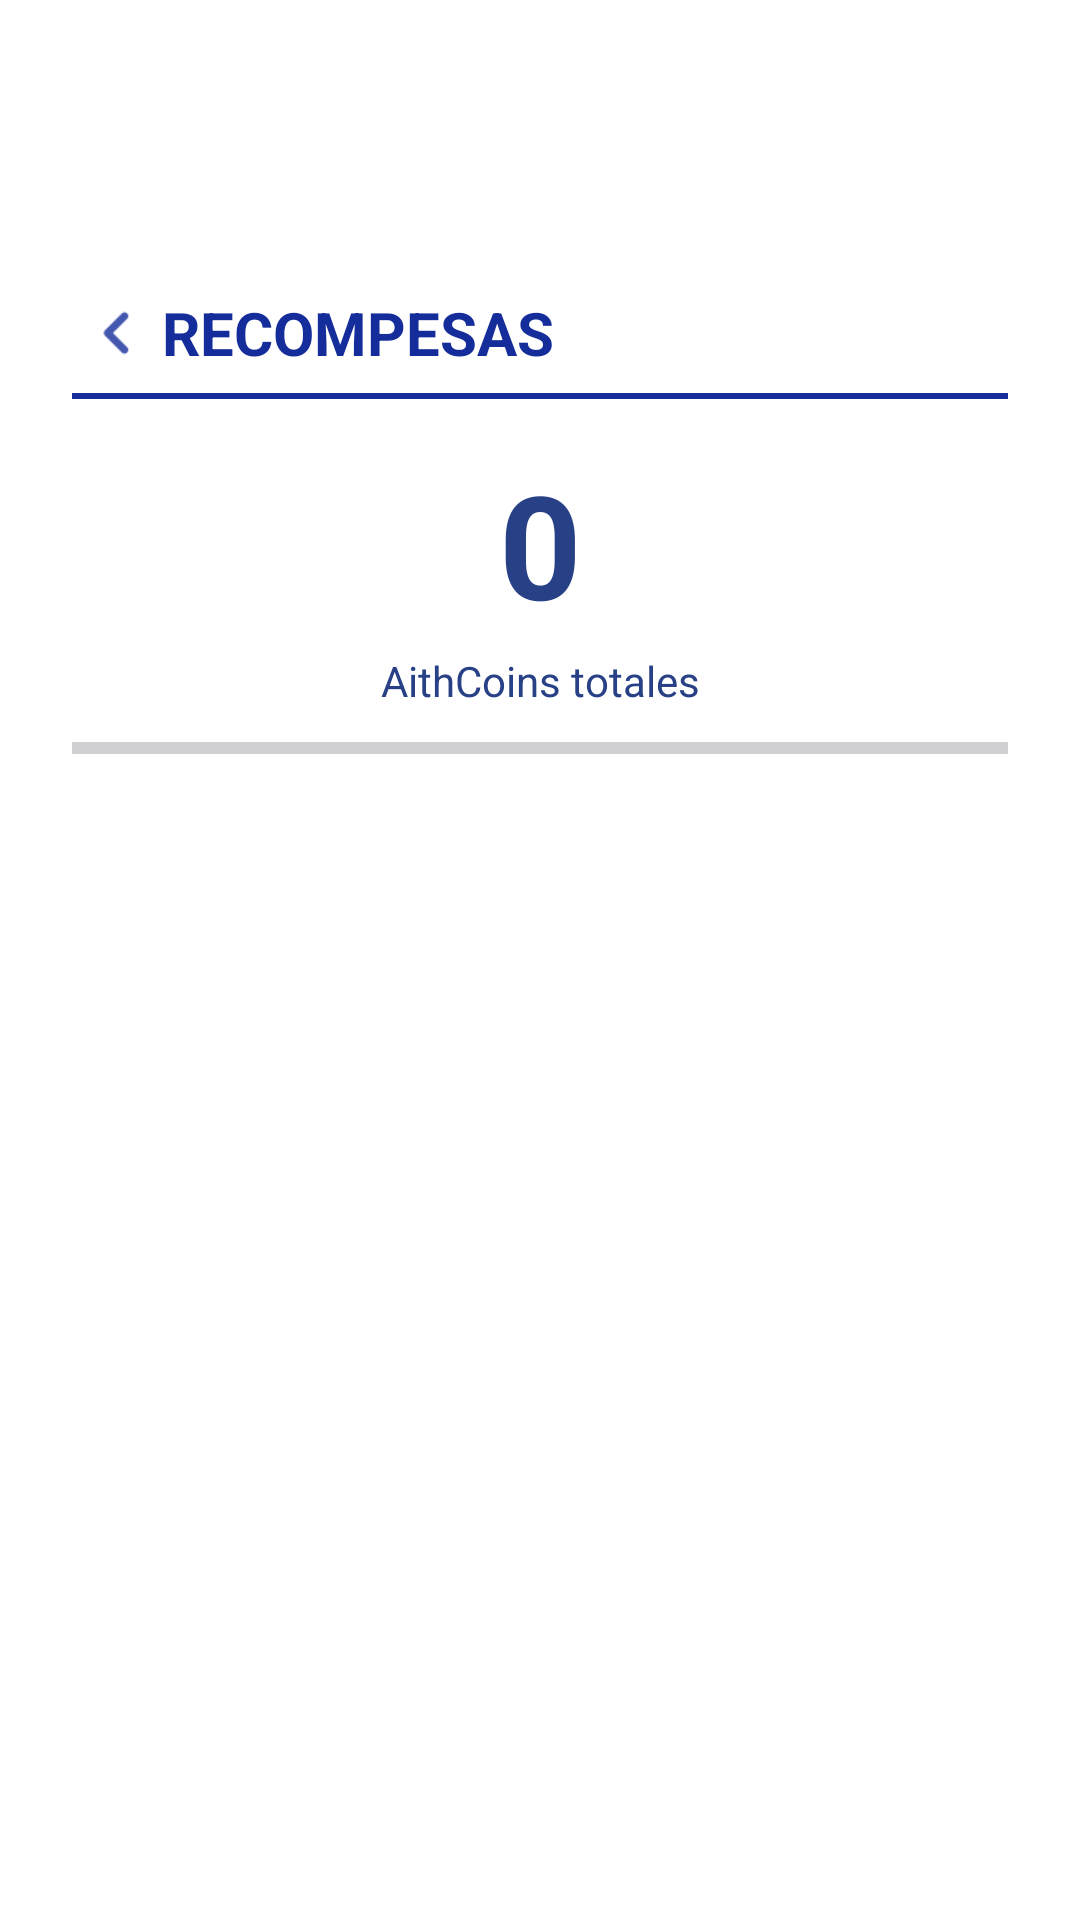

Icons on this 1080x1920 Android screen, each with its box as {"left": x1, "top": y1, "right": x2, "bottom": y2}:
Volver atrás: {"left": 103, "top": 311, "right": 129, "bottom": 355}
